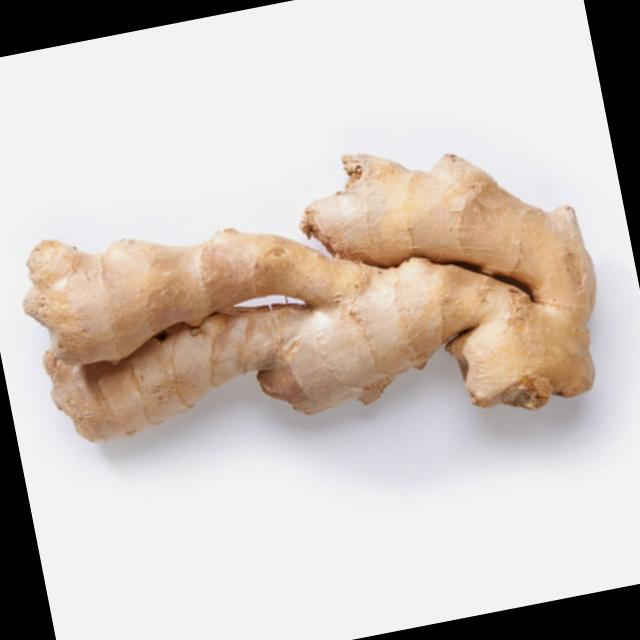ginger-root: (0, 98, 621, 526)
